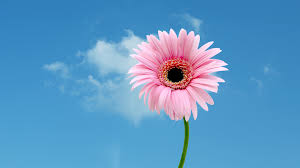flower: (129, 33, 251, 120)
